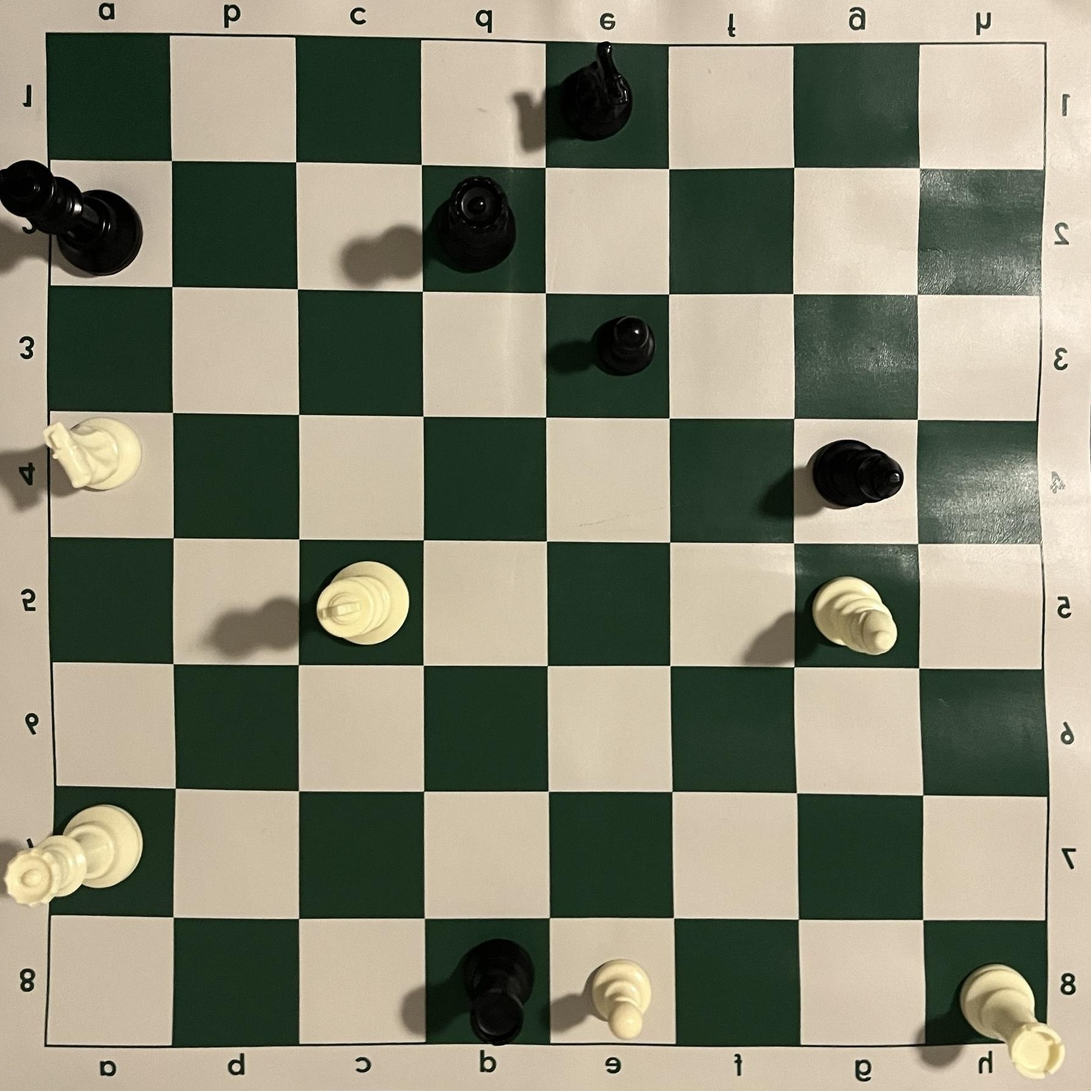black_bishop: (810, 439, 904, 510)
black_king: (0, 160, 145, 277)
black_knight: (560, 41, 634, 142)
black_pawn: (589, 314, 658, 377)
black_queen: (437, 174, 517, 274)
black_rook: (462, 937, 536, 1048)
white_bishop: (811, 575, 899, 658)
white_king: (315, 560, 410, 647)
white_knight: (41, 417, 143, 491)
white_pawn: (589, 958, 653, 1042)
white_queen: (4, 803, 143, 909)
white_rook: (958, 962, 1067, 1079)
